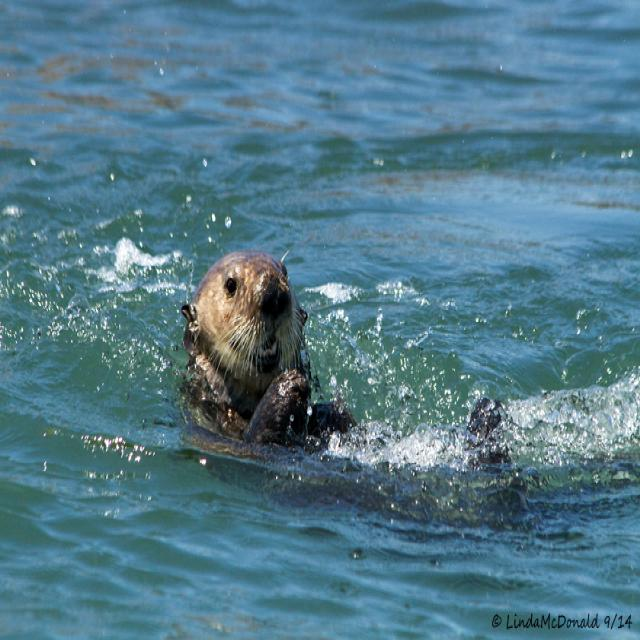otter: (185, 251, 329, 446)
